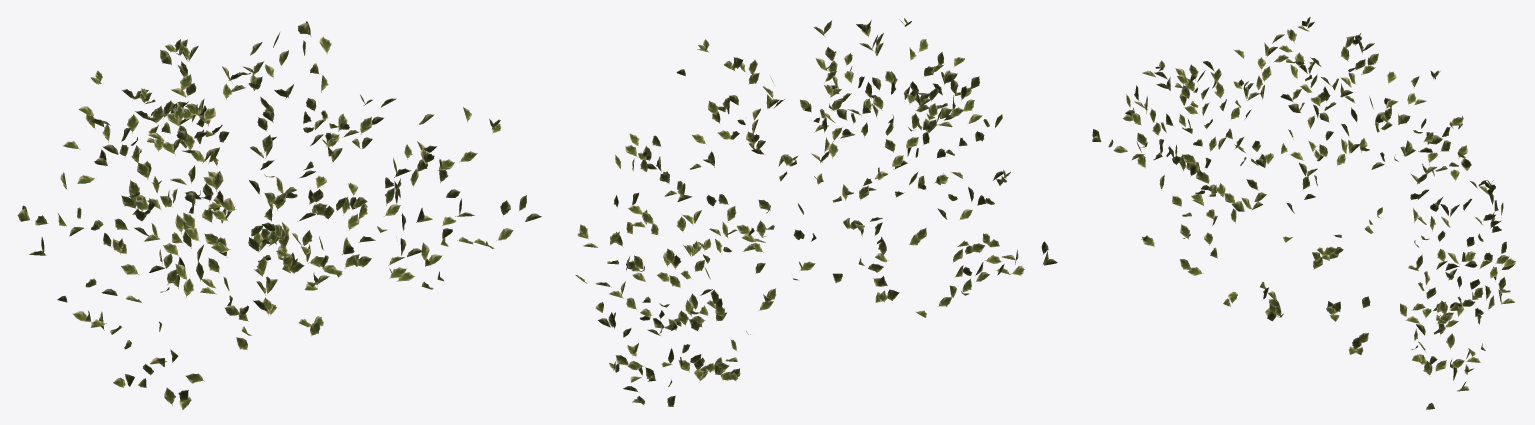
Rendered from MESH_LS10_A_Euonymus_LOD2.fbx.
3 views of the same model, side by side, from view 1: azimuth 30°, elevation 25°; view 2: azimuth 150°, elevation 25°; view 3: azimuth 270°, elevation 25° (orthographic). The views are drawn at different scales.
Parts seen in each view (by area): view 1: MI_LOD2_001; view 2: MI_LOD2_001; view 3: MI_LOD2_001.
Boxes of the visible parts, bbox=[...] form: MI_LOD2_001: bbox=[17, 21, 541, 409]; MI_LOD2_001: bbox=[575, 18, 1057, 406]; MI_LOD2_001: bbox=[1092, 17, 1515, 409].
Size of what is drawn, in the model's own units: 222 by 165 by 212.
